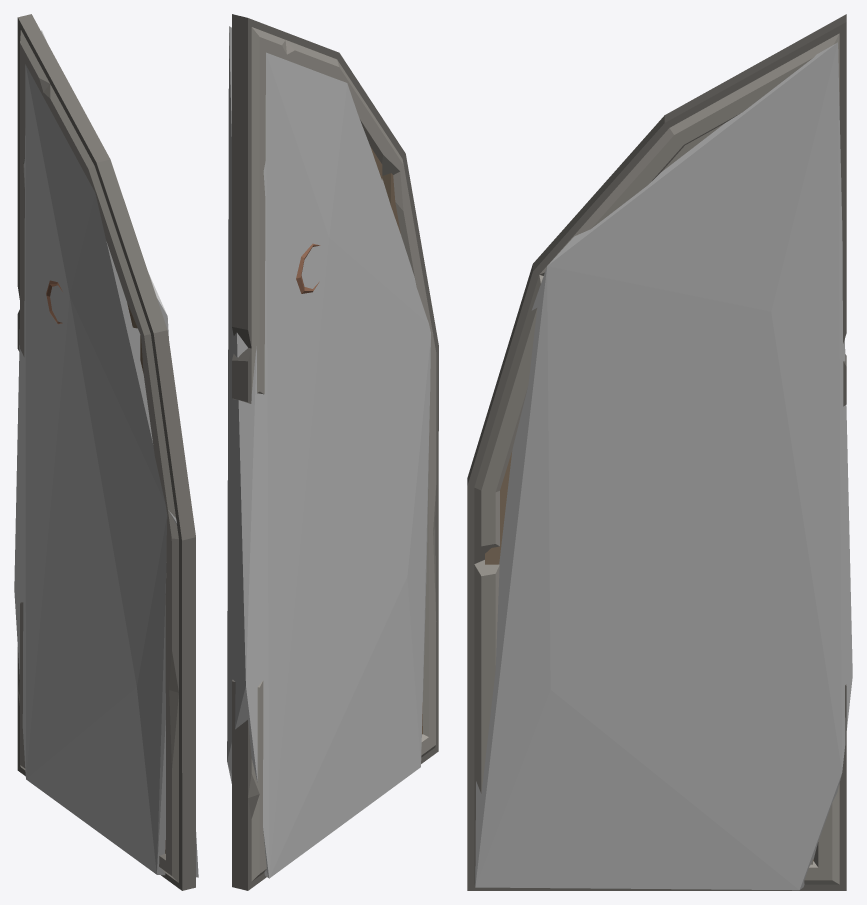
File: SM_Bld_Double_Door_Right_01.fbx
The picture shows the model from 3 angles, left to right: view 1: azimuth 30°, elevation 25°; view 2: azimuth 150°, elevation 25°; view 3: azimuth 270°, elevation 25°; orthographic projection. The views are drawn at different scales.
Visible parts, largest first — view 1: SM_Bld_Double_Door_Right_01_ConvexHulls, SM_Bld_Double_Door_Right_01; view 2: SM_Bld_Double_Door_Right_01_ConvexHulls, SM_Bld_Double_Door_Right_01; view 3: SM_Bld_Double_Door_Right_01_ConvexHulls, SM_Bld_Double_Door_Right_01.
Part boxes in pixels (left/top/right/bottom): SM_Bld_Double_Door_Right_01_ConvexHulls: left=14, top=30, right=198, bottom=877; SM_Bld_Double_Door_Right_01: left=17, top=14, right=195, bottom=890; SM_Bld_Double_Door_Right_01_ConvexHulls: left=227, top=26, right=433, bottom=878; SM_Bld_Double_Door_Right_01: left=232, top=14, right=438, bottom=890; SM_Bld_Double_Door_Right_01_ConvexHulls: left=475, top=42, right=852, bottom=890; SM_Bld_Double_Door_Right_01: left=467, top=14, right=846, bottom=890.
Size of the model in its own units: 12.09 by 104 by 260.
2 materials, 1 textured.
